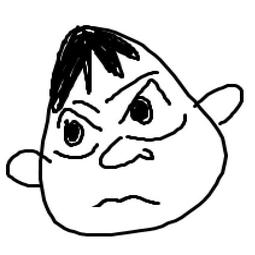ear: (195, 82, 248, 127), (4, 147, 43, 191)
eye: (117, 77, 191, 143), (51, 108, 100, 164)
frowning_eyebrow: (103, 68, 161, 105), (72, 96, 102, 115)
line_unsmiling_mouth: (91, 190, 167, 215)
nose: (97, 135, 156, 170)
